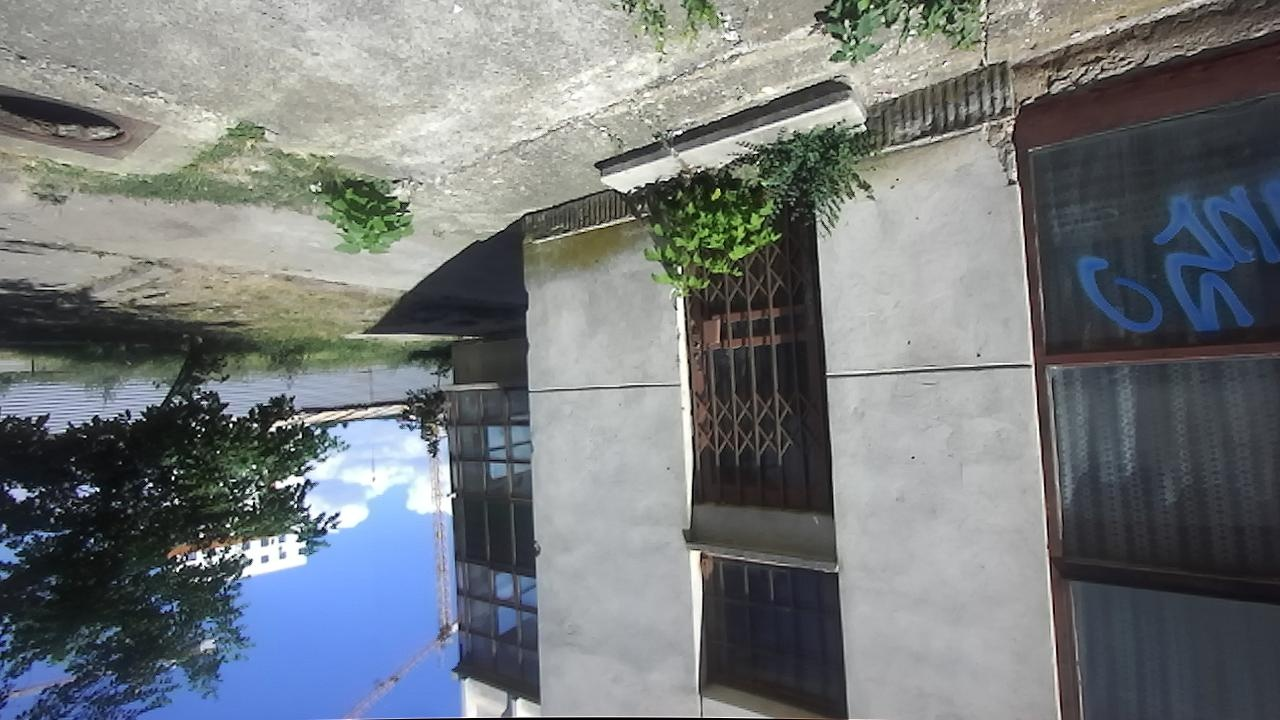drain: (1, 87, 137, 150)
